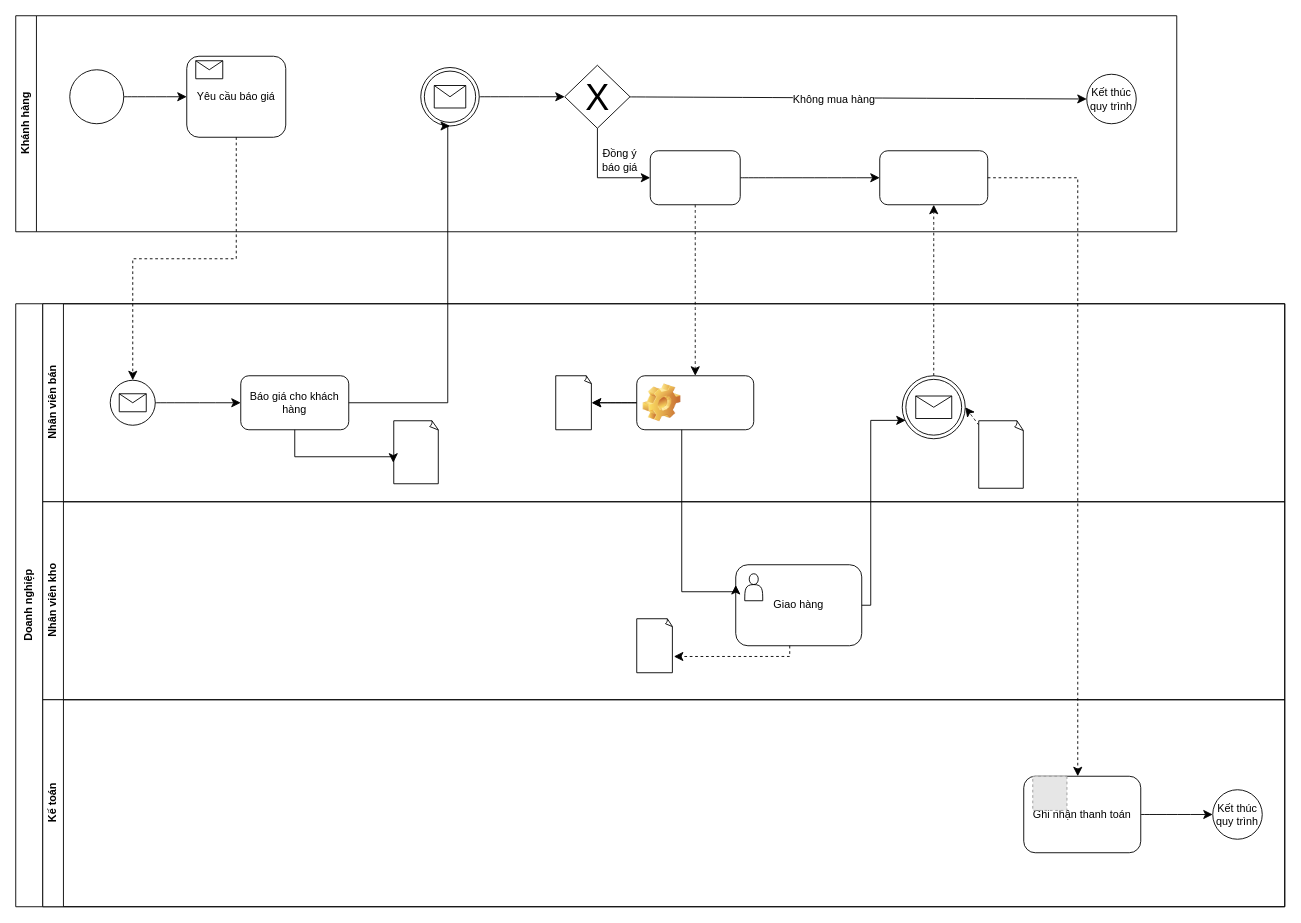
Some shapes in this 1301 by 923 pixel diagram are drawn without their labels. Grey dashed boxes stand in for pictures. The centre of each missing label's shape, as x and y in pixels:
"Báo giá" belongs at point 416,452.
"Hóa đơn bán hàng" belongs at point 1001,454.
"Phiếu xuất kho" belongs at point 654,645.
"Thanh toán" belongs at point 933,177.
"Tạo đơn báo giá" belongs at point 695,402.
"Xác nhận báo giá" belongs at point 694,177.
